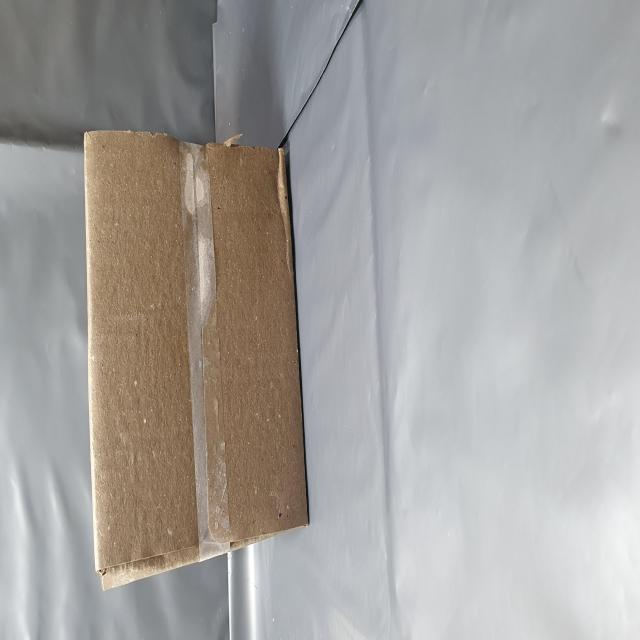wet: (34, 135, 281, 552)
